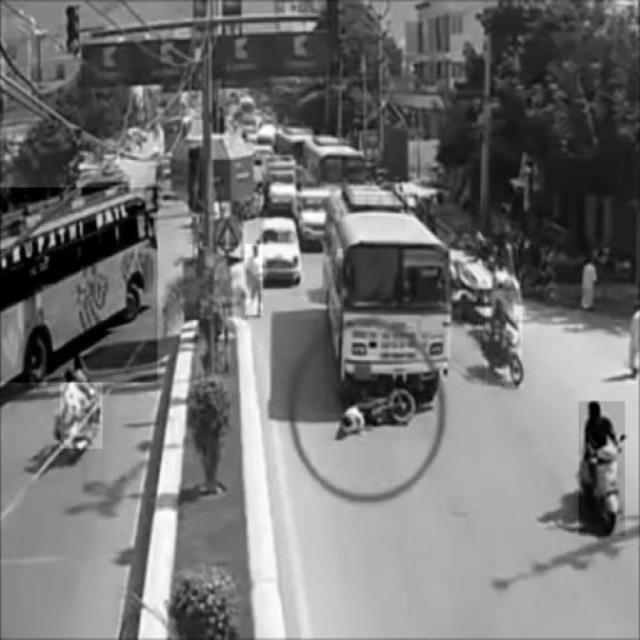accident: (324, 190, 452, 440)
person: (246, 244, 263, 315)
vehicle: (1, 188, 158, 383), (579, 401, 625, 535), (60, 353, 102, 449), (486, 291, 523, 387), (262, 217, 300, 283)
